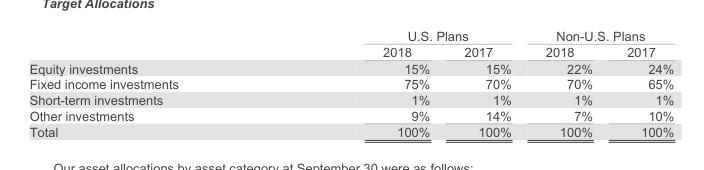table: (28, 28, 673, 138)
table column: (28, 28, 280, 138), (280, 28, 446, 138), (527, 28, 609, 138), (446, 28, 527, 138), (609, 28, 673, 138)
table column header: (28, 28, 673, 60)
table row: (28, 43, 673, 60), (28, 75, 673, 91), (28, 91, 673, 107), (28, 107, 673, 123), (28, 28, 673, 43), (28, 60, 673, 75), (28, 123, 673, 138)
table spanning cell: (280, 28, 527, 43), (527, 28, 673, 43)
